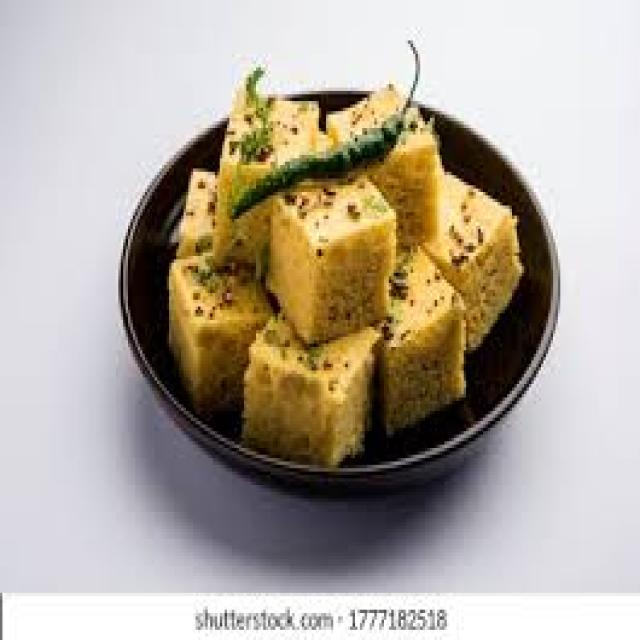DHOKLA: (268, 179, 394, 337), (244, 323, 374, 465), (425, 172, 522, 347), (169, 253, 270, 411), (377, 249, 464, 431), (367, 128, 442, 246)
